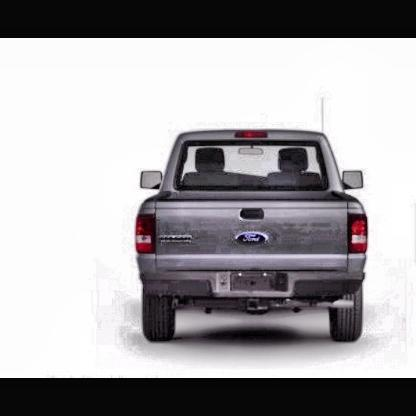Ford Ranger SuperCab 2011: (137, 130, 370, 345)
